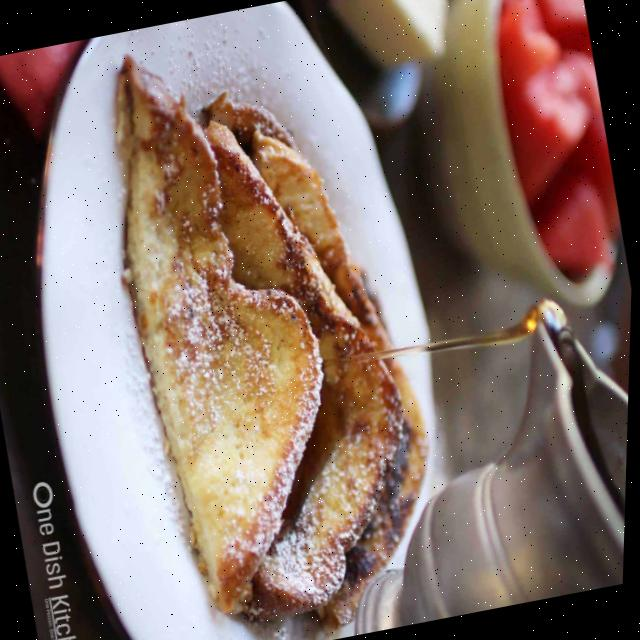Bread: (117, 57, 325, 614), (205, 122, 374, 360), (251, 360, 405, 620)
